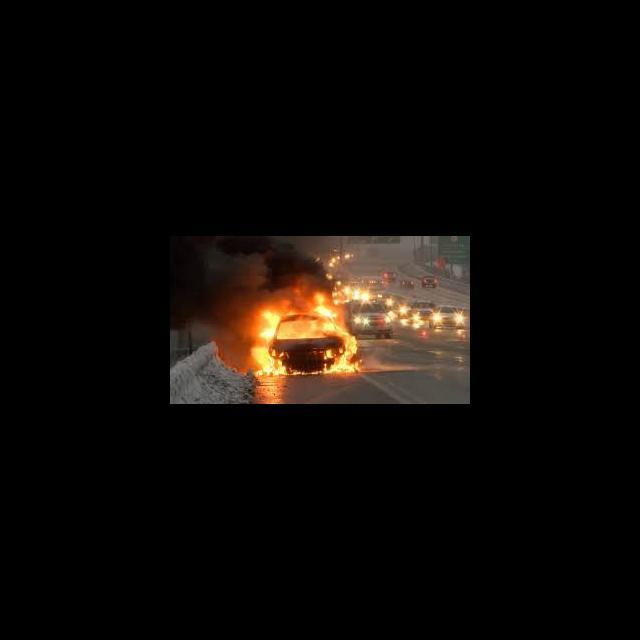Fire: (244, 288, 356, 378)
Smoke: (170, 236, 322, 282)
